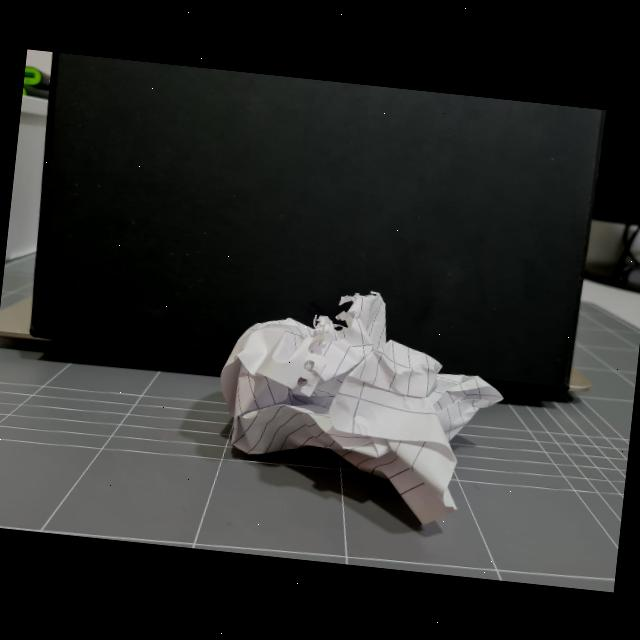trash: (204, 280, 522, 520)
